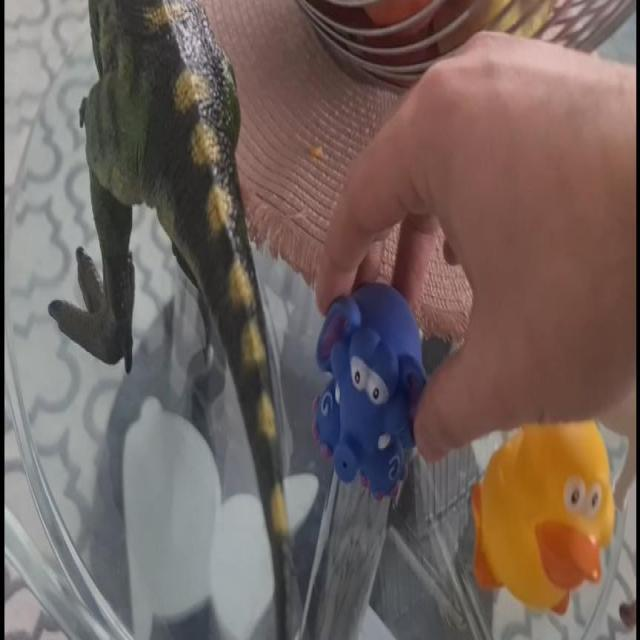hard-toy: (51, 1, 289, 560), (475, 422, 615, 609), (317, 285, 426, 500)
